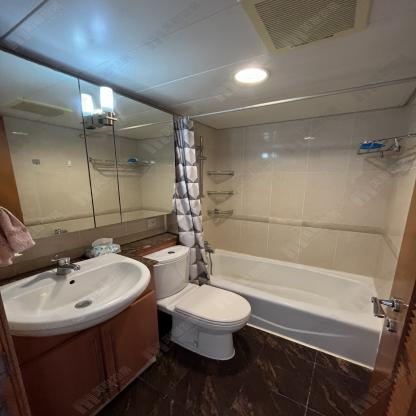Bathtub: (210, 246, 381, 369)
Faucet: (51, 255, 82, 276)
Toilet: (140, 244, 252, 359)
Toilet Sink: (16, 252, 152, 337)
